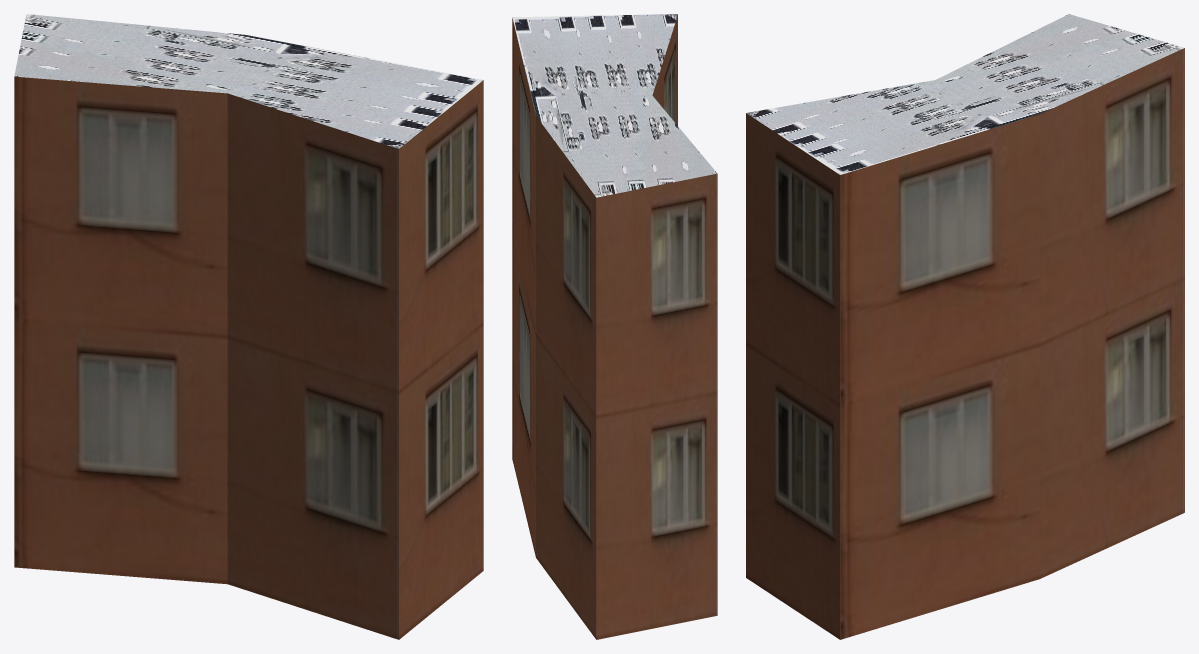
Rendered from ResTex__1028.fbx.
3 renders of one model, left to right at view 1: azimuth 30°, elevation 25°; view 2: azimuth 150°, elevation 25°; view 3: azimuth 270°, elevation 25°, orthographic. The views are drawn at different scales.
Parts seen in each view (by area): view 1: CityEngineMaterial_20_m, CityEngineMaterial_2_m; view 2: CityEngineMaterial_20_m, CityEngineMaterial_2_m; view 3: CityEngineMaterial_20_m, CityEngineMaterial_2_m.
Part boxes in pixels (x1,y1,x2,y2): CityEngineMaterial_20_m: (14,76,483,639); CityEngineMaterial_2_m: (14,14,483,148); CityEngineMaterial_20_m: (512,15,717,639); CityEngineMaterial_2_m: (512,14,717,197); CityEngineMaterial_20_m: (746,48,1184,639); CityEngineMaterial_2_m: (746,14,1184,174).
Bounding box in the file's own units: 4.46 × 6 × 5.13.
2 materials, 2 textured.
